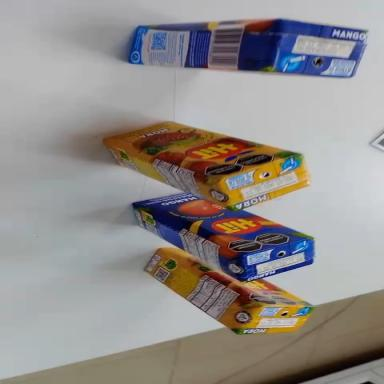HIT-MANGO: (121, 171, 320, 303), (127, 10, 367, 79)
HIT-MORA: (95, 107, 316, 226), (138, 228, 314, 360)
cara_F: (129, 170, 314, 279), (100, 105, 299, 197), (159, 227, 313, 329)
